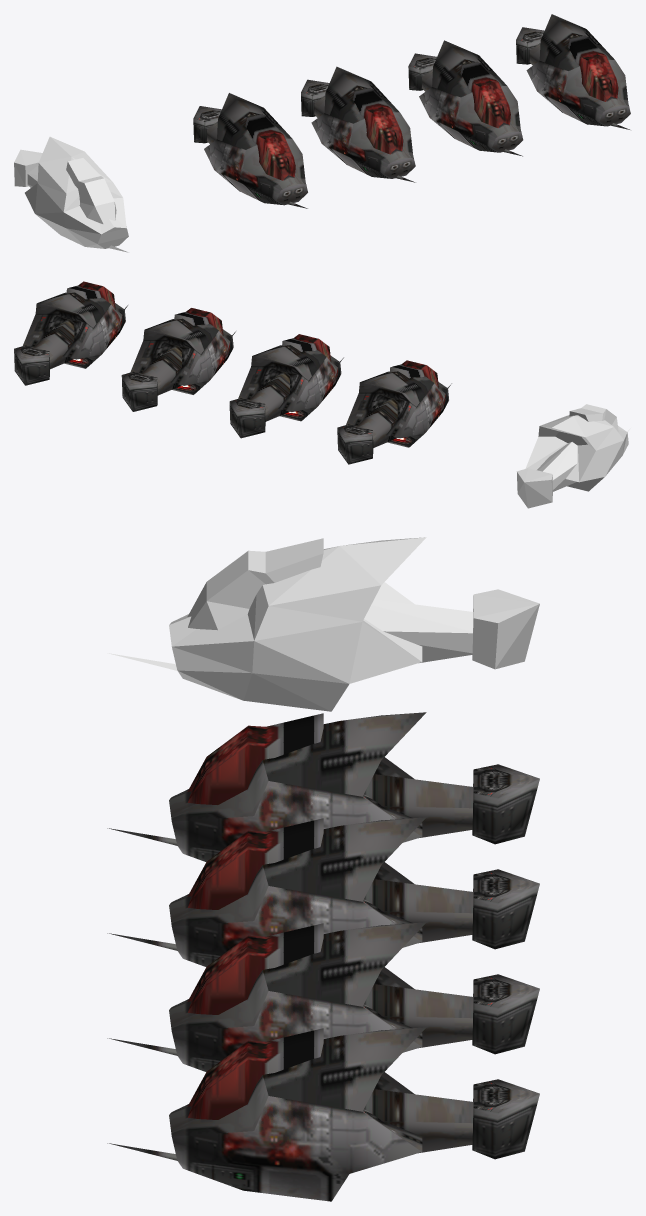
Rendered from hgn_bst_smt_swarmer.dae.
3 views of the same model, one above another, from view 1: azimuth 30°, elevation 25°; view 2: azimuth 150°, elevation 25°; view 3: azimuth 270°, elevation 25° (orthographic). The views are drawn at different scales.
Visible parts, largest first — view 1: MULT[Root]_LOD[3], MULT[Root]_LOD[1], COL[Root], MULT[Root]_LOD[0], MULT[Root]_LOD[2]; view 2: COL[Root], MULT[Root]_LOD[3], MULT[Root]_LOD[0], MULT[Root]_LOD[1], MULT[Root]_LOD[2]; view 3: MULT[Root]_LOD[3], COL[Root], MULT[Root]_LOD[1], MULT[Root]_LOD[0], MULT[Root]_LOD[2].
Part boxes in pixels (<box>): MULT[Root]_LOD[3]: <box>516,14,630,129</box>; MULT[Root]_LOD[1]: <box>301,66,415,182</box>; COL[Root]: <box>14,136,128,252</box>; MULT[Root]_LOD[0]: <box>193,93,307,208</box>; MULT[Root]_LOD[2]: <box>408,40,523,156</box>; COL[Root]: <box>517,404,630,508</box>; MULT[Root]_LOD[3]: <box>14,281,127,385</box>; MULT[Root]_LOD[0]: <box>337,360,451,464</box>; MULT[Root]_LOD[1]: <box>229,334,343,438</box>; MULT[Root]_LOD[2]: <box>121,308,235,411</box>; MULT[Root]_LOD[3]: <box>107,1027,539,1201</box>; COL[Root]: <box>107,537,539,711</box>; MULT[Root]_LOD[1]: <box>107,817,539,966</box>; MULT[Root]_LOD[0]: <box>107,712,539,861</box>; MULT[Root]_LOD[2]: <box>107,922,539,1071</box>.
Bounding box in the file's own units: 38.09 × 4.95 × 12.48.
6 materials, 6 textured.
